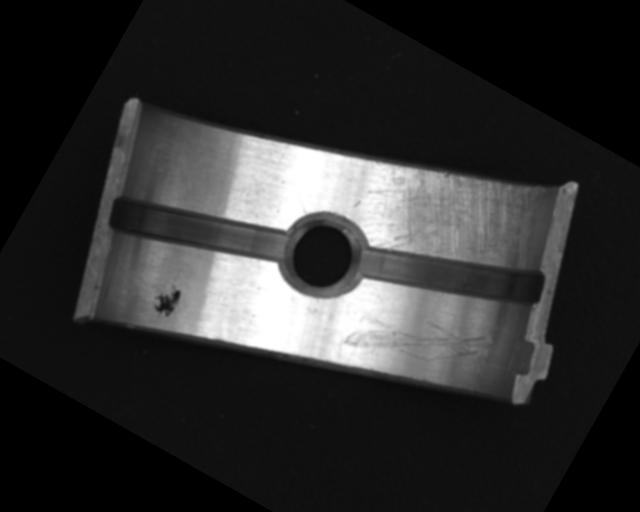blot: (145, 277, 188, 323)
gap: (349, 187, 552, 359), (100, 153, 294, 312)
hole: (270, 206, 371, 308)
nick: (340, 274, 492, 406)
scratch: (341, 110, 561, 319)
